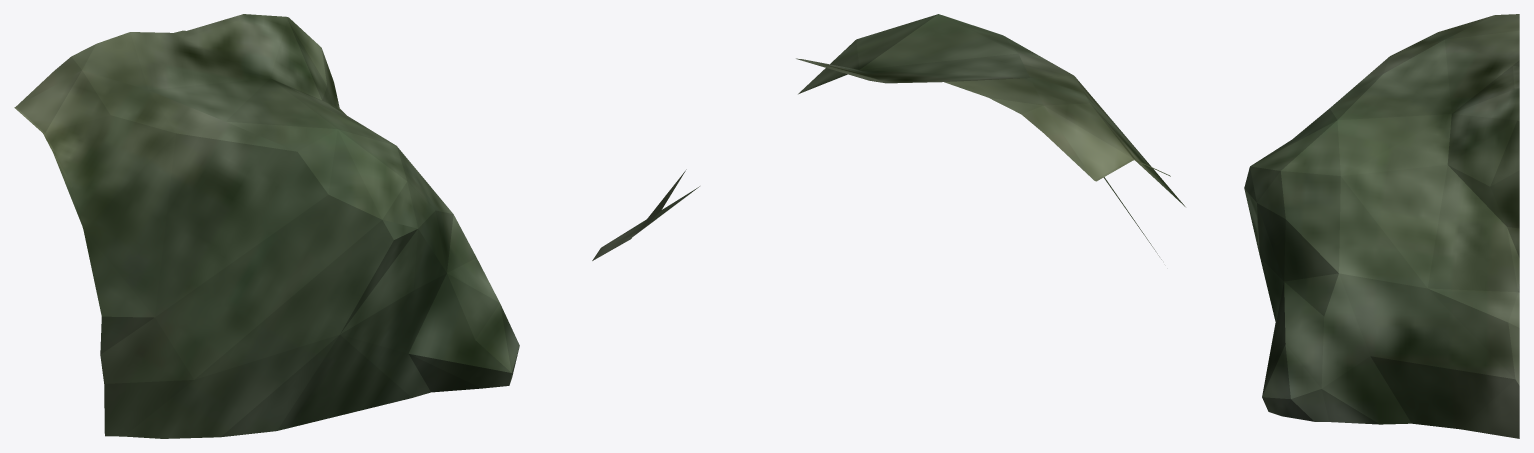
The picture shows the model from 3 angles, left to right: view 1: azimuth 30°, elevation 25°; view 2: azimuth 150°, elevation 25°; view 3: azimuth 270°, elevation 25°; orthographic projection. The views are drawn at different scales.
Size of the model in its own units: 1.01 by 0.7136 by 0.6433.
1 material, 1 textured.
